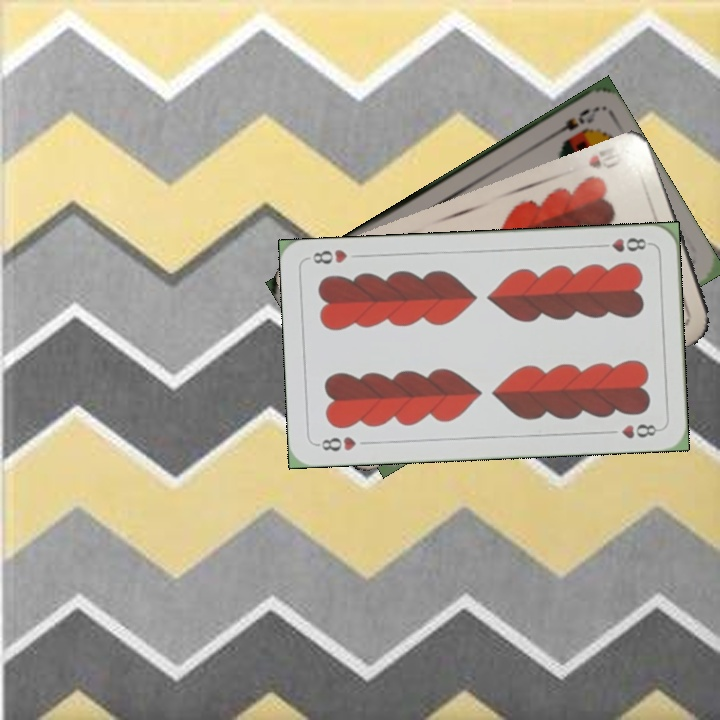H10: (584, 142, 627, 171)
H8: (594, 234, 653, 255), (313, 432, 359, 454)
SO: (545, 104, 599, 142)
